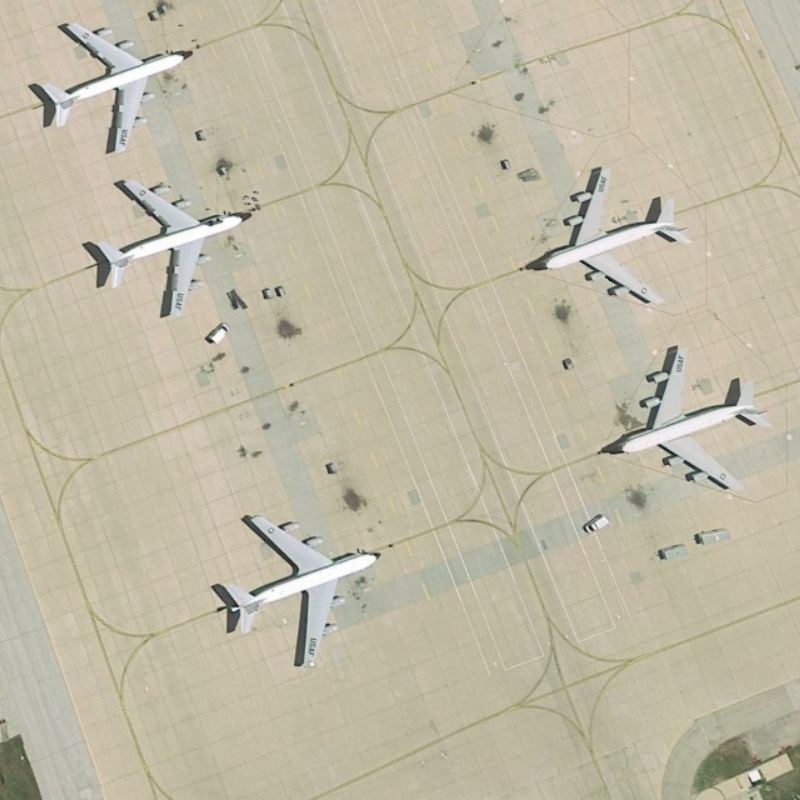A11: (591, 336, 777, 500), (208, 507, 385, 672), (517, 159, 695, 314), (86, 172, 258, 330), (25, 11, 197, 161)
